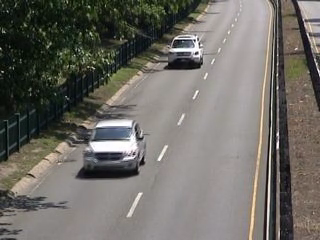car: (82, 118, 150, 176), (164, 29, 206, 73)
